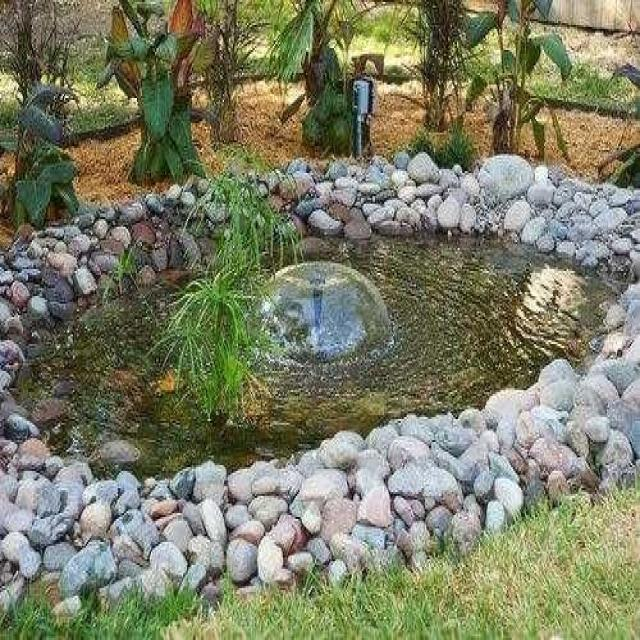Ponds: (1, 154, 640, 618)
